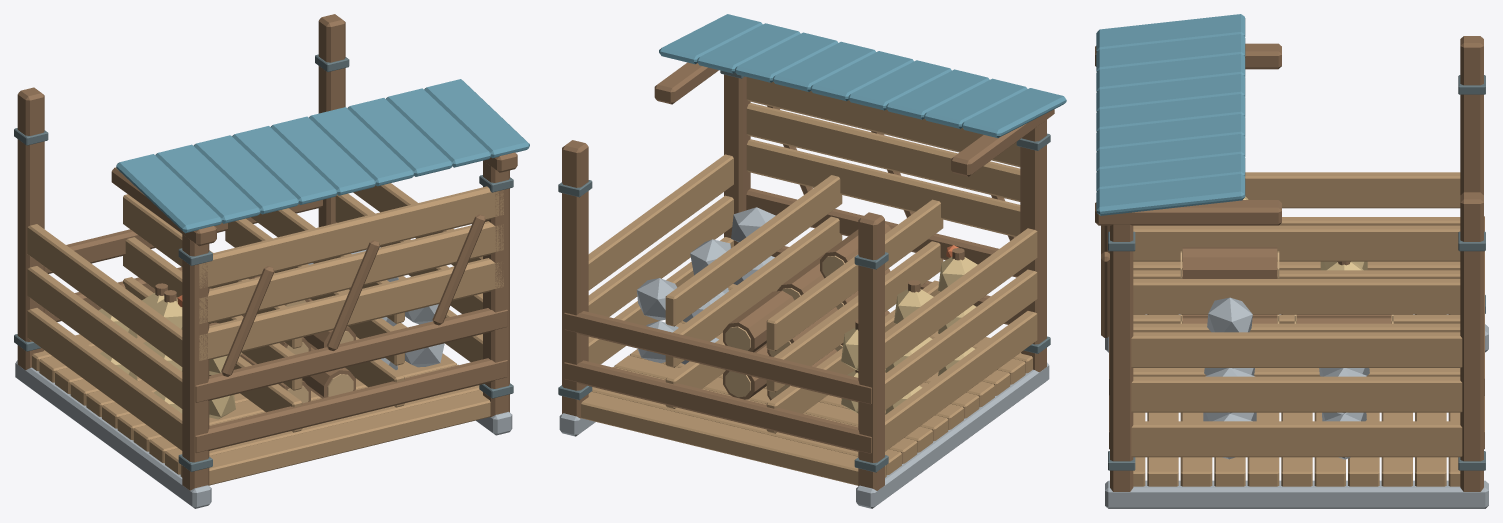
File: storage_depot_player.glb
3 views of the same model, side by side, from view 1: azimuth 30°, elevation 25°; view 2: azimuth 150°, elevation 25°; view 3: azimuth 270°, elevation 25° (orthographic). The views are drawn at different scales.
Visible parts, largest first — view 1: WarehouseFrame, Cargo.010, Cargo.008, Cargo.019; view 2: WarehouseFrame, Cargo.016, Cargo.025, Cargo.017, Cargo.012, Cargo.008, Cargo.026, Cargo.014, Cargo.005, Cargo.023, Cargo.007; view 3: WarehouseFrame, Cargo.017, Cargo.026, Cargo.016.
Boxes of the visible parts, x1,y1,x2,y2 form: WarehouseFrame: (14, 14, 529, 508); Cargo.010: (302, 347, 355, 398); Cargo.008: (151, 290, 182, 329); Cargo.019: (405, 343, 444, 367); WarehouseFrame: (558, 14, 1066, 508); Cargo.016: (723, 290, 794, 352); Cargo.025: (636, 278, 677, 320); Cargo.017: (820, 223, 891, 278); Cargo.012: (723, 343, 768, 399); Cargo.008: (938, 245, 977, 291); Cargo.026: (731, 207, 775, 242); Cargo.014: (777, 253, 825, 300); Cargo.005: (894, 280, 933, 323); Cargo.023: (690, 239, 730, 275); Cargo.007: (841, 319, 858, 370); WarehouseFrame: (1095, 14, 1488, 508); Cargo.017: (1180, 247, 1279, 278); Cargo.026: (1207, 297, 1252, 332); Cargo.016: (1294, 317, 1393, 323).
Size of the model in its own units: 2.17 by 1.82 by 2.
